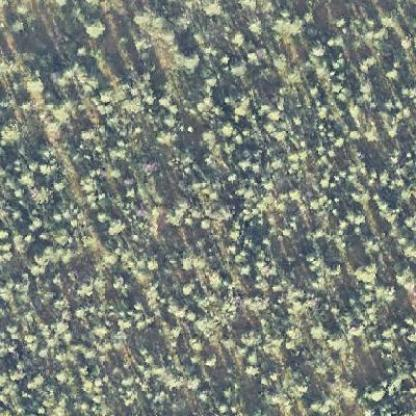tree-top: (239, 324, 263, 348), (81, 17, 108, 38), (30, 182, 52, 205), (24, 371, 44, 391), (182, 373, 203, 391), (242, 362, 261, 376), (111, 274, 127, 289), (178, 282, 196, 295), (201, 352, 217, 365)
